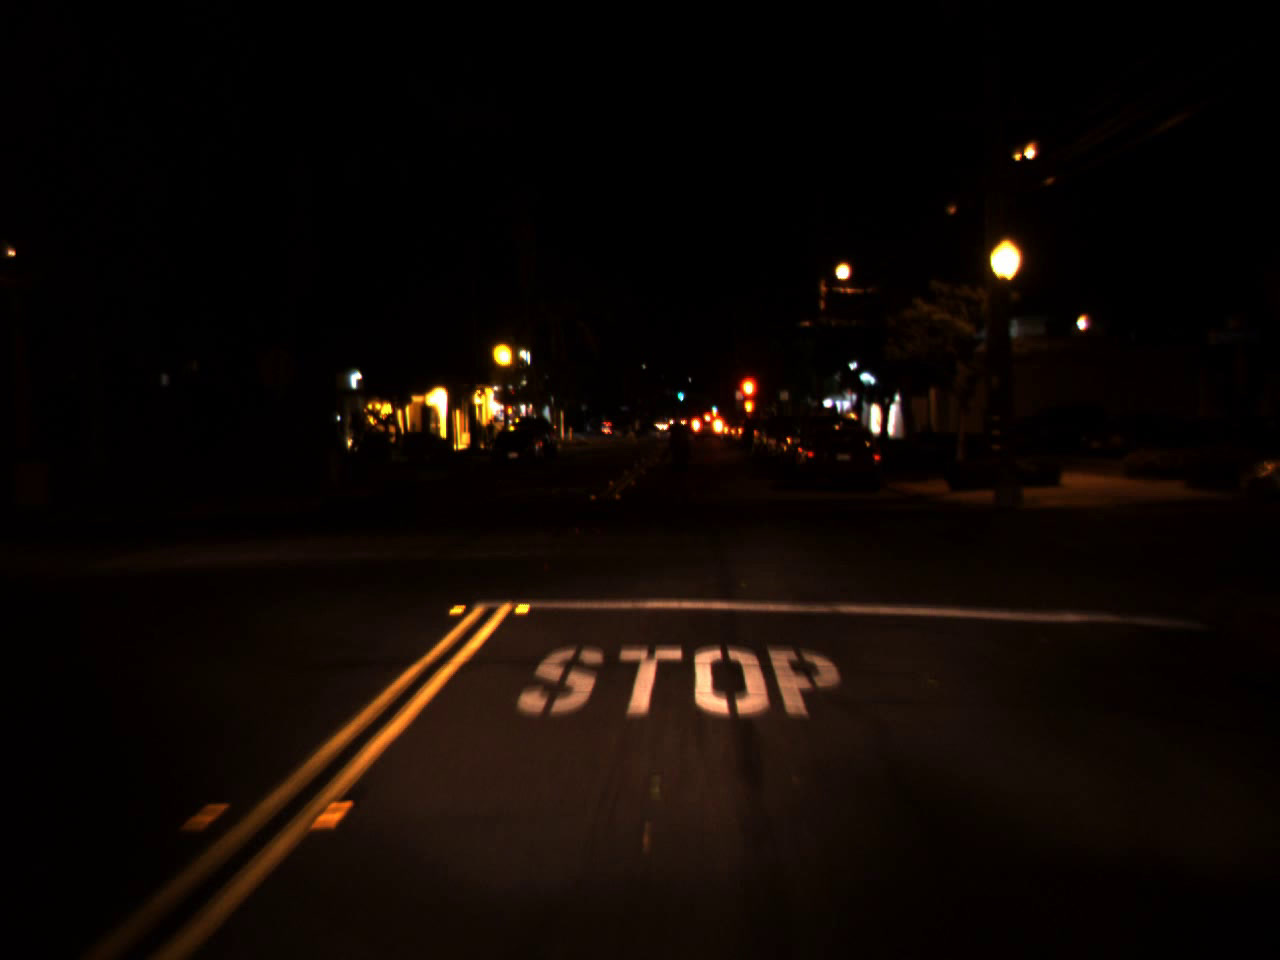go: (675, 382, 684, 403), (709, 400, 718, 412)
stop: (736, 373, 760, 427)
